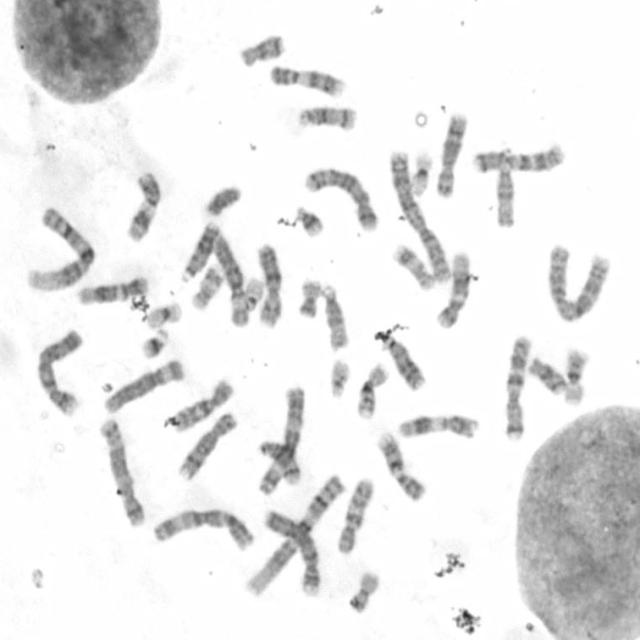A1: (241, 470, 348, 598), (22, 202, 98, 293)
A2: (386, 144, 452, 284), (542, 237, 613, 325)
A3: (255, 381, 308, 497), (149, 504, 256, 552)
B4: (260, 505, 322, 598), (32, 325, 86, 419)
B5: (96, 415, 148, 529), (301, 162, 380, 234)
C10: (168, 374, 236, 434), (333, 473, 376, 556)
C11: (122, 167, 163, 244), (394, 410, 481, 441)
C12: (434, 248, 472, 331), (74, 272, 149, 306)
C6: (100, 355, 187, 415), (206, 227, 250, 328)
C7: (500, 331, 532, 441), (470, 140, 565, 175)
C8: (174, 408, 239, 482), (432, 108, 470, 198)
C9: (374, 427, 427, 503), (266, 61, 347, 100)
D13: (378, 332, 427, 393), (177, 218, 221, 283)
D14: (257, 438, 302, 487), (295, 101, 358, 132)
D15: (319, 280, 351, 352), (492, 156, 518, 229)
E16: (353, 358, 391, 421), (560, 342, 590, 407)
E17: (389, 239, 435, 292), (187, 264, 225, 312)
E18: (235, 30, 287, 68), (525, 353, 566, 396)
F19: (406, 148, 434, 198), (144, 299, 184, 331)
F20: (344, 566, 382, 616), (296, 274, 322, 320)
G21: (291, 201, 326, 240), (138, 324, 170, 360)
G22: (325, 354, 351, 400), (240, 273, 264, 312)
X: (253, 240, 285, 329)
Y: (201, 180, 243, 218)
